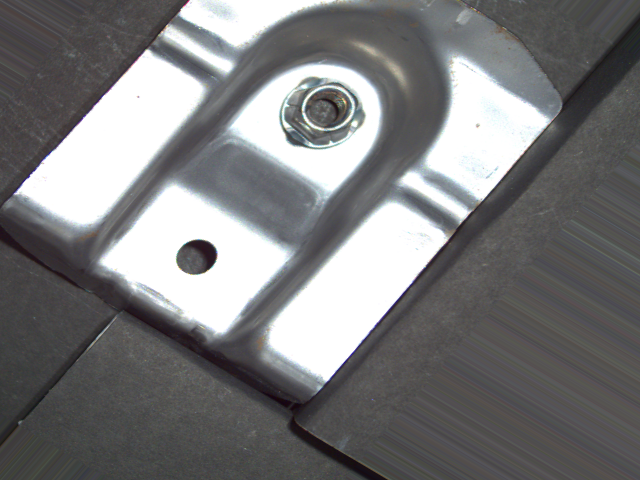good: (276, 73, 370, 157)
